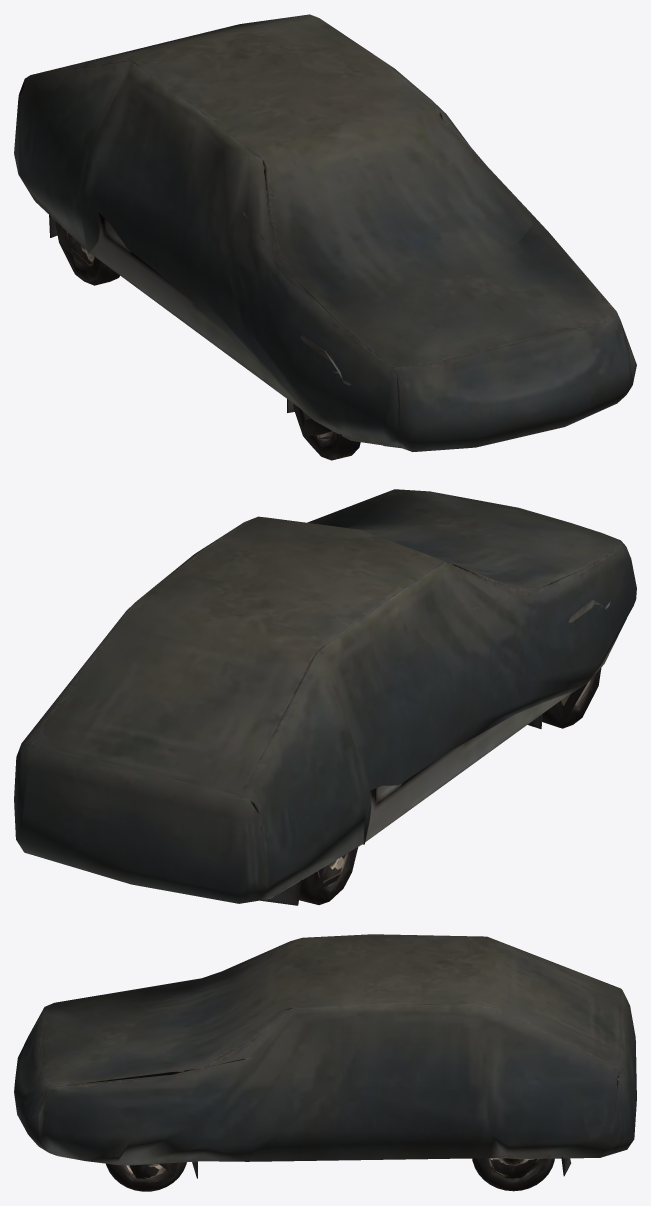
The model's file is covered_car.glb.
3 renders of one model, top to bottom at view 1: azimuth 30°, elevation 25°; view 2: azimuth 150°, elevation 25°; view 3: azimuth 270°, elevation 25°, orthographic. The views are drawn at different scales.
Parts seen in each view (by area): view 1: covered_car_wheel_02, covered_car_wheel_02_lo; view 2: covered_car_wheel_02, covered_car_wheel_02_lo; view 3: covered_car_wheel_02, covered_car_wheel_01, covered_car_wheel_02_lo, covered_car_wheel_01_lo.
Part boxes in pixels (bbox=[...]): covered_car_wheel_02: bbox=[14, 14, 636, 460]; covered_car_wheel_02_lo: bbox=[49, 211, 615, 440]; covered_car_wheel_02: bbox=[14, 489, 636, 905]; covered_car_wheel_02_lo: bbox=[261, 490, 602, 905]; covered_car_wheel_02: bbox=[14, 934, 636, 1178]; covered_car_wheel_01: bbox=[106, 1158, 554, 1191]; covered_car_wheel_02_lo: bbox=[57, 1057, 571, 1175]; covered_car_wheel_01_lo: bbox=[125, 1158, 539, 1178].
Size of the model in its own units: 1.79 by 1.41 by 4.38.
1 material, 1 textured.
